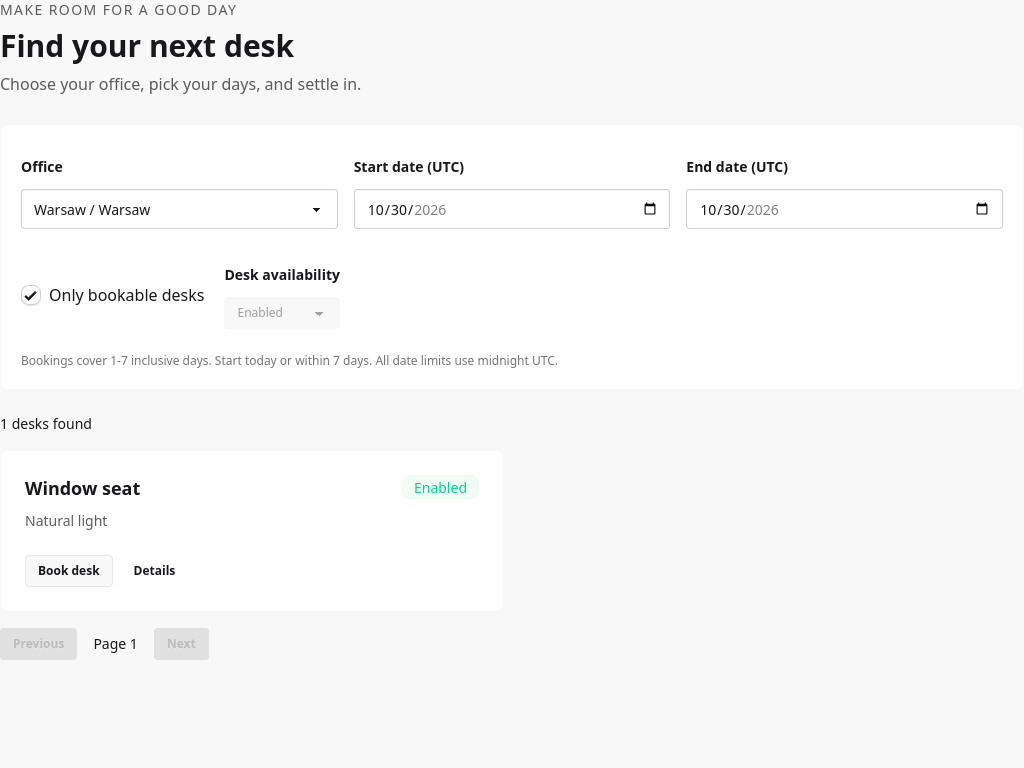
Test: shows API conflicts in the booking dialog without retrying the mutation
Step 1. Select "Warsaw / Warsaw" in the dropdown labelled "Office" → (179, 209), box [21,189,338,229]
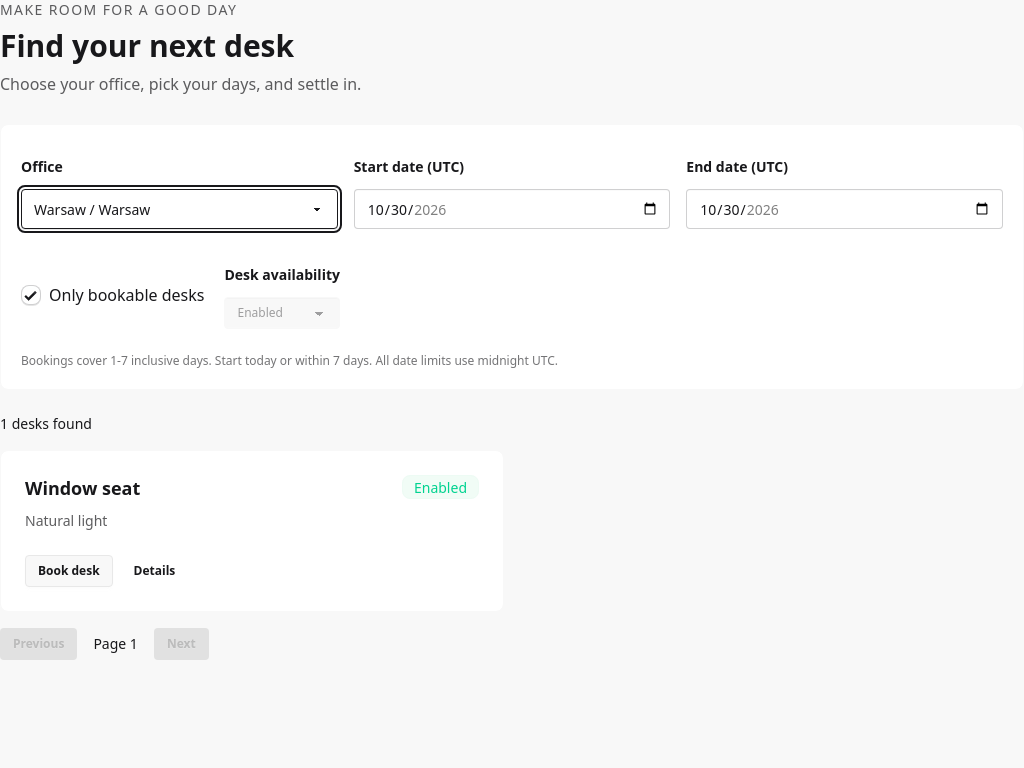
Step 2. Click the button "Book desk" → (69, 571), box [25,555,113,587]
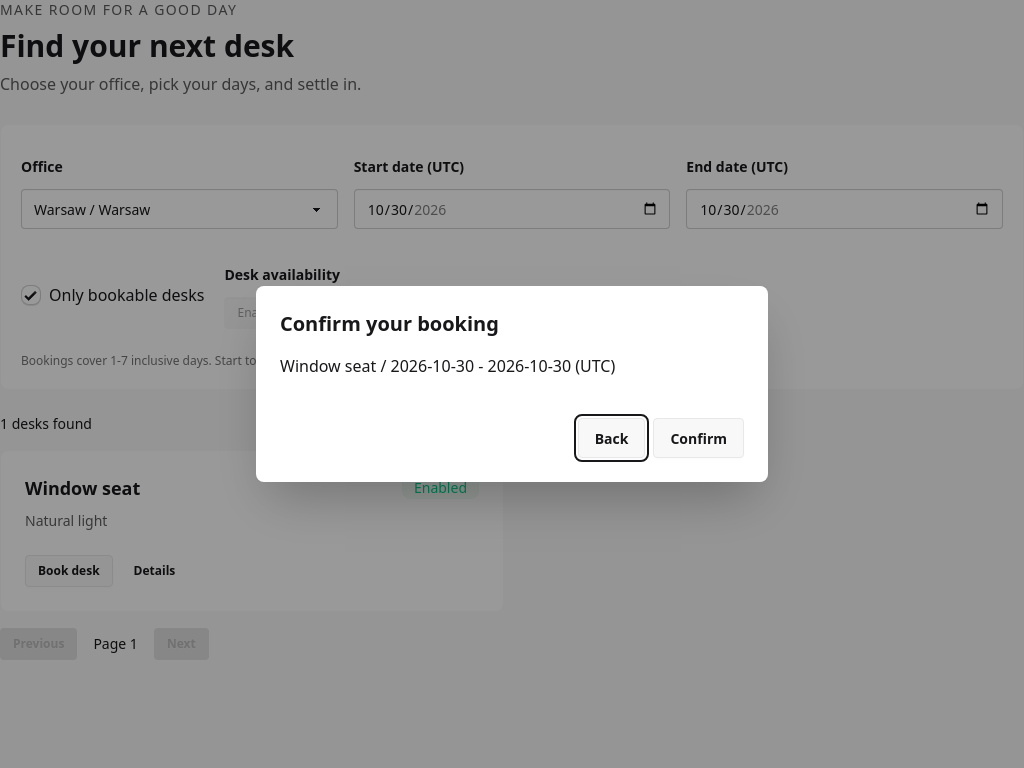
Step 3. Click the button "Confirm" → (699, 438), box [653,418,744,458]
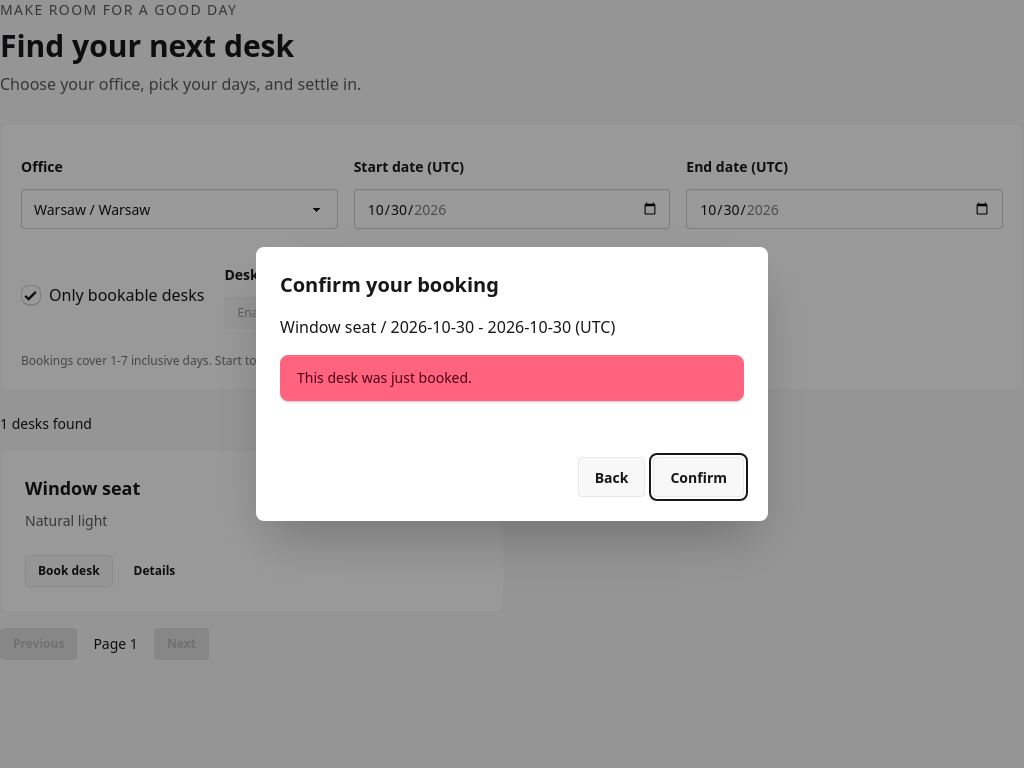
Now the message reads "This desk was just booked.", box [297,368,472,387]
